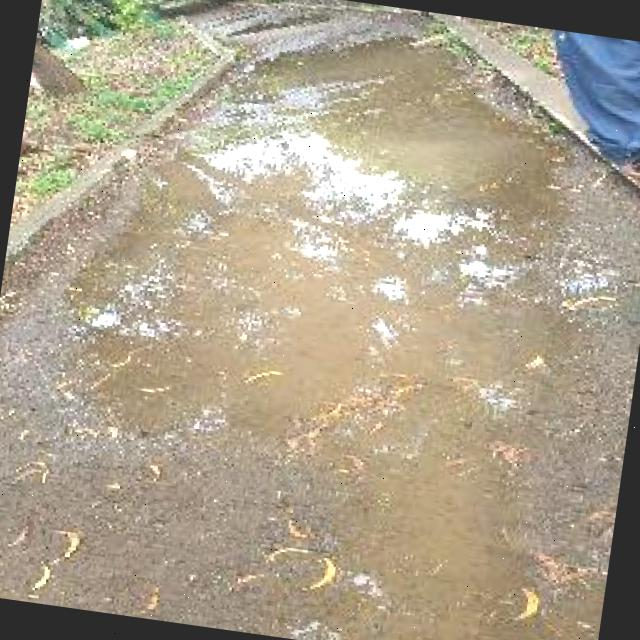stagnation: (112, 53, 640, 640)
